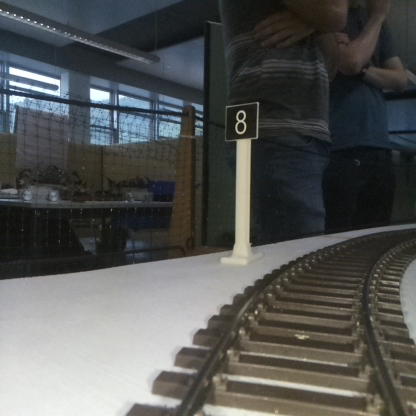black-info-8: (226, 102, 257, 261)
